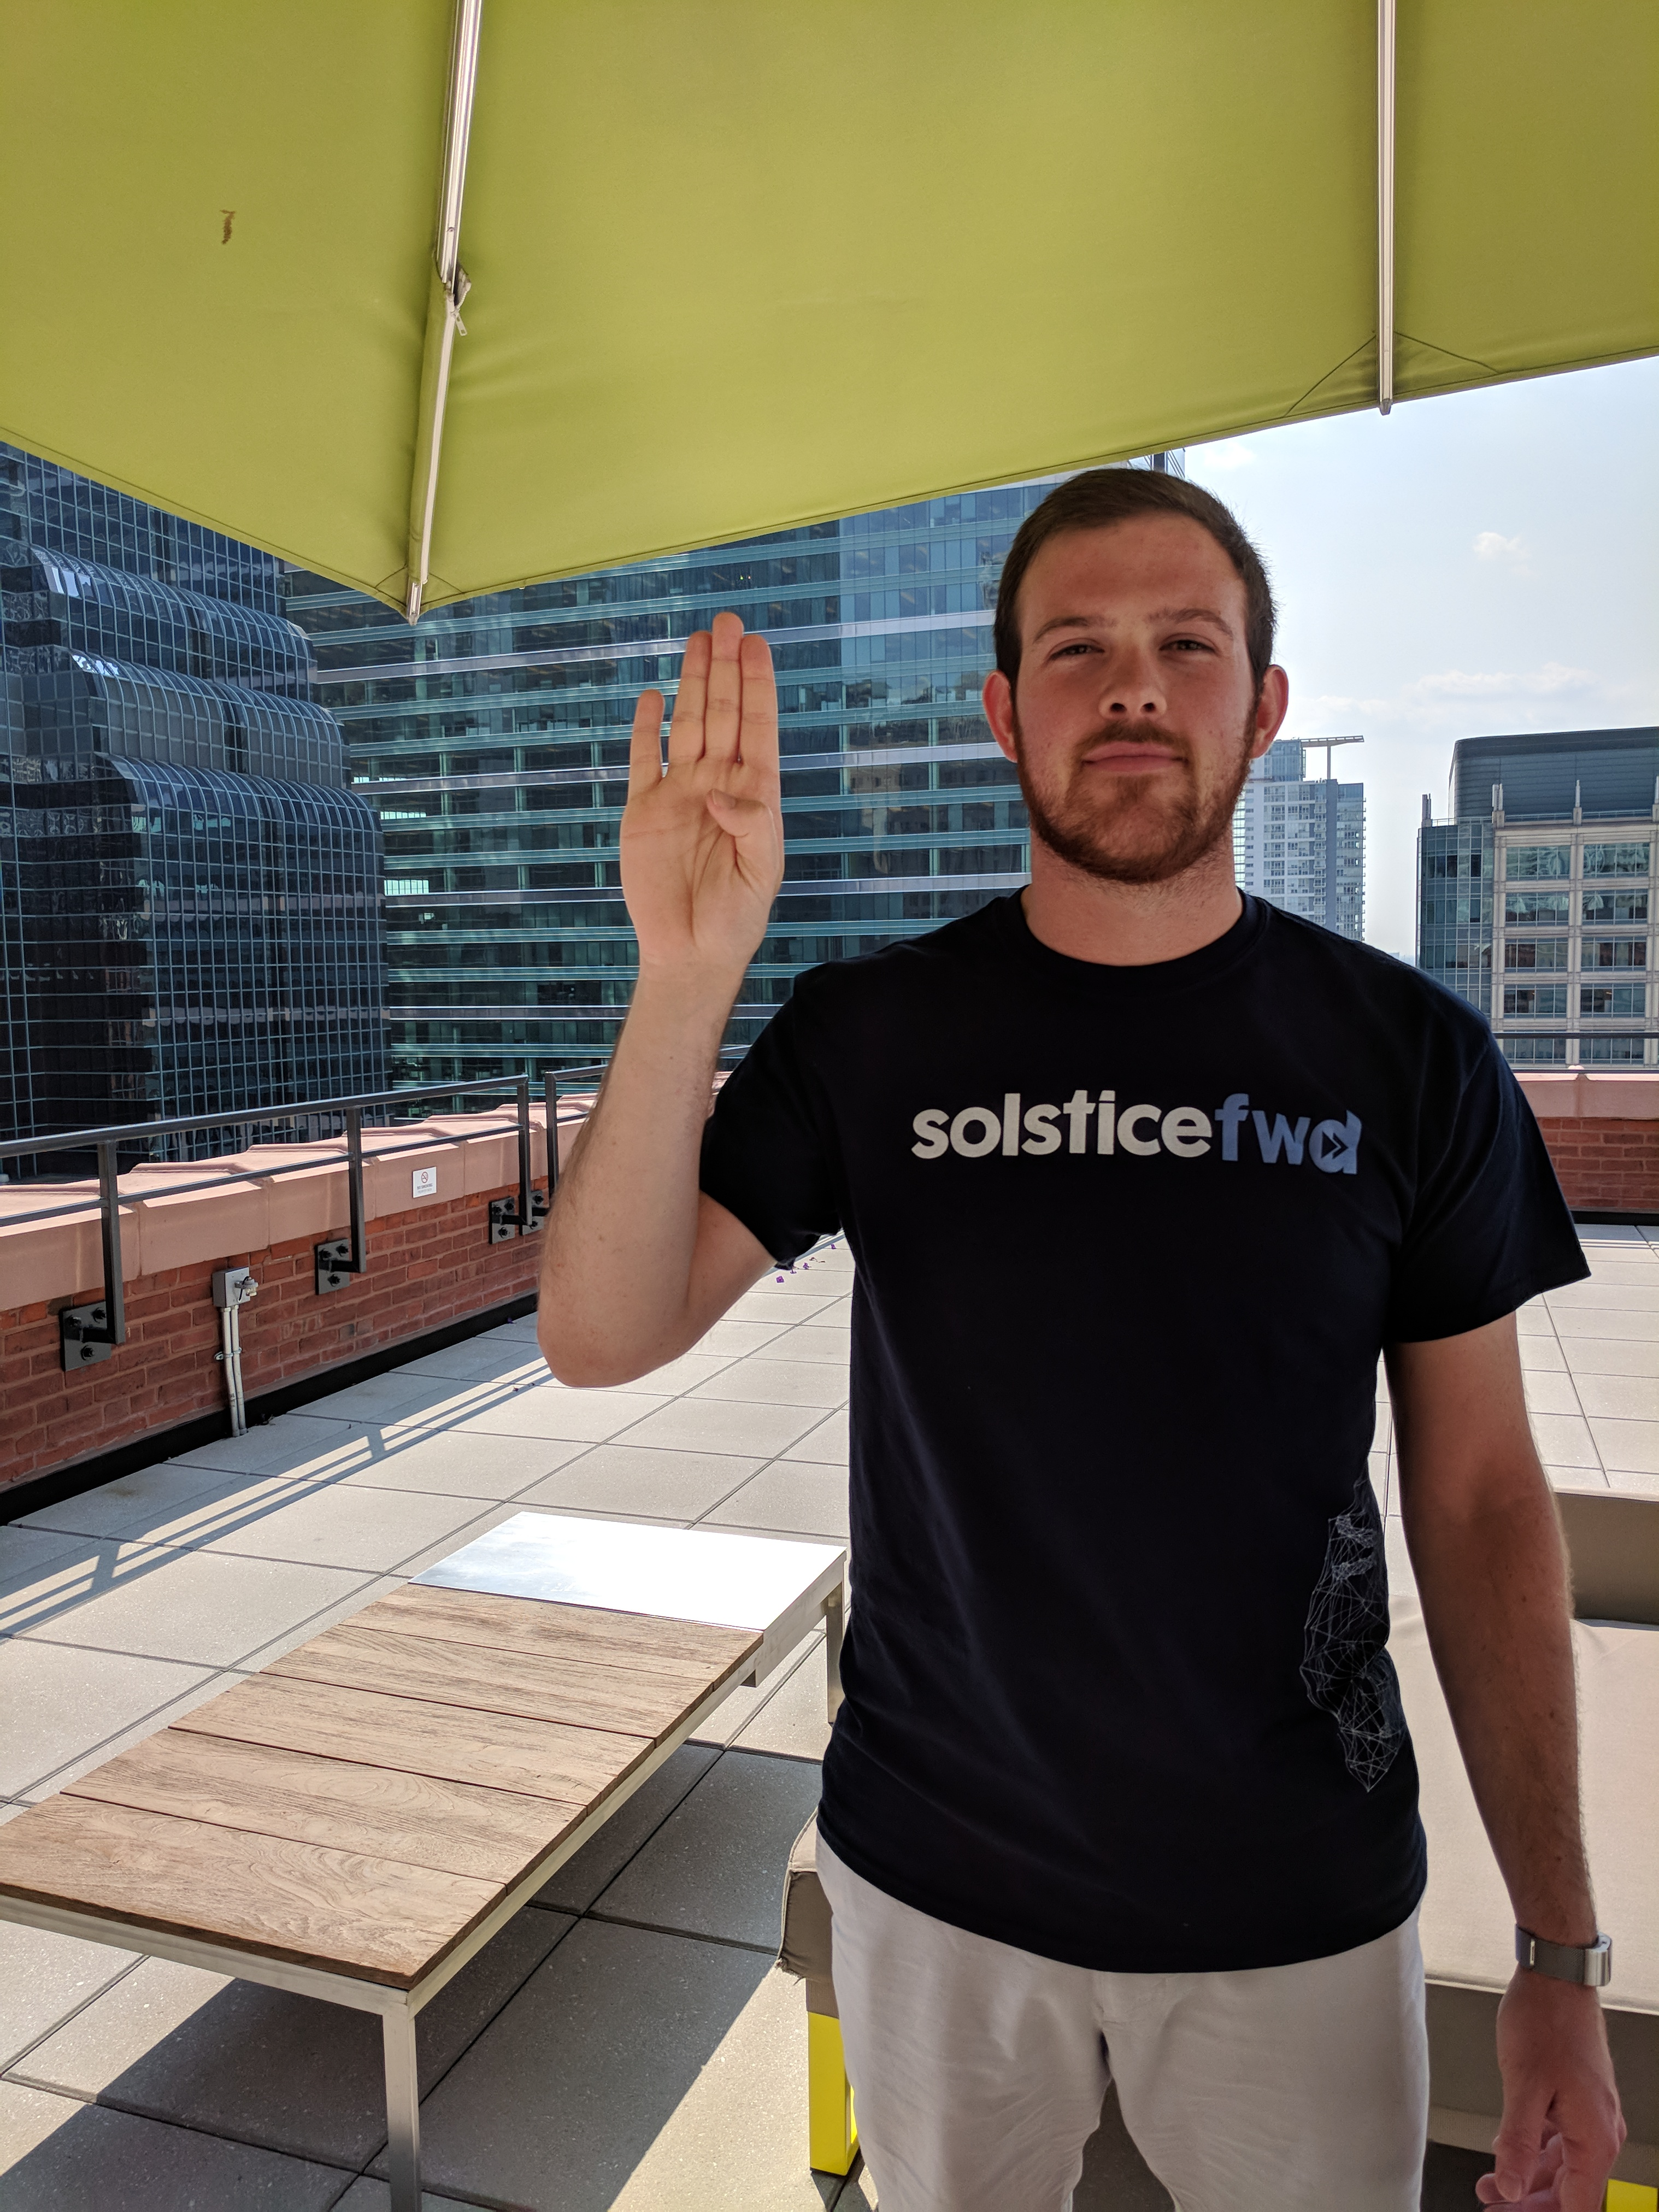b: (622, 606, 789, 988)
